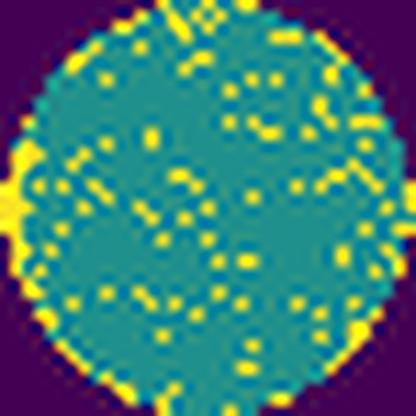Edge-Loc: (0, 139, 50, 300)
